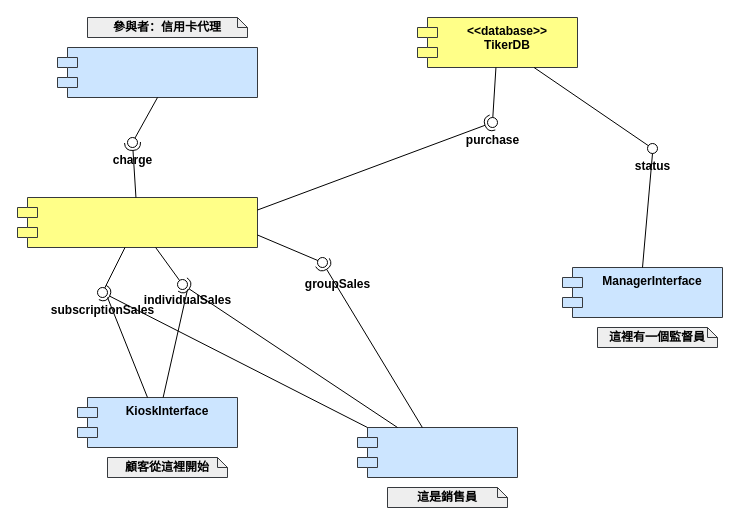
This 740x525 diagram has some shape labels left out. Here are the shapes that lost their labels. From the top down, the centre of each, then its label:
At [157,72]: "CreditCardCharges".
At [137,222]: "TicktSeller".
At [437,452]: "ClearInterface".
